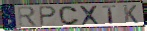C: (58, 6, 81, 26)
K: (123, 4, 140, 24)
P: (38, 6, 58, 27)
R: (16, 6, 39, 27)
T: (102, 5, 118, 24)
X: (78, 5, 101, 26)
